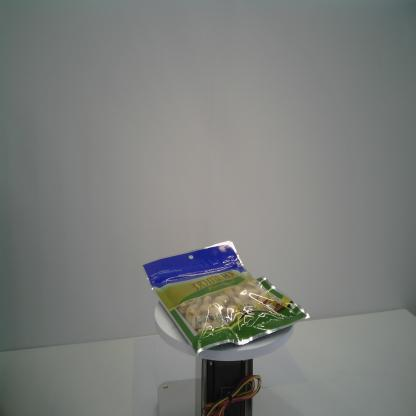Dried Fruit: (140, 236, 313, 358)
